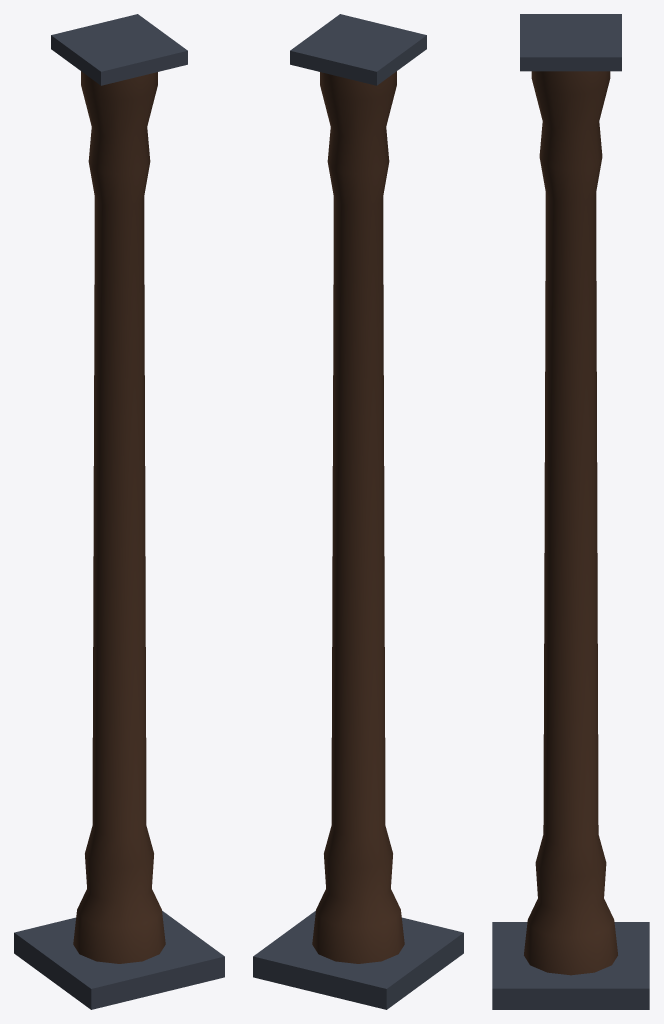
The model's file is lantern_post.glb.
3 renders of one model, left to right at view 1: azimuth 30°, elevation 25°; view 2: azimuth 150°, elevation 25°; view 3: azimuth 270°, elevation 25°, orthographic. The views are drawn at different scales.
Visible parts, largest first — view 1: lantern_post; view 2: lantern_post; view 3: lantern_post.
Part boxes in pixels (<box>): lantern_post: <box>14,14,224,1009</box>; lantern_post: <box>253,14,463,1009</box>; lantern_post: <box>492,14,649,1009</box>.
Bounding box in the file's own units: 0.2 × 1.32 × 0.2.
